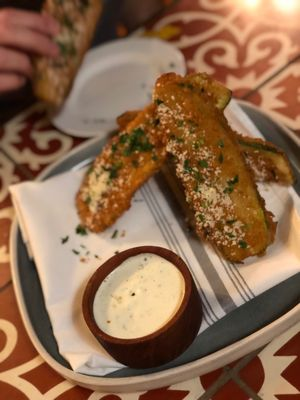sandwich: (140, 174, 234, 327)
sushi: (82, 246, 204, 369)
